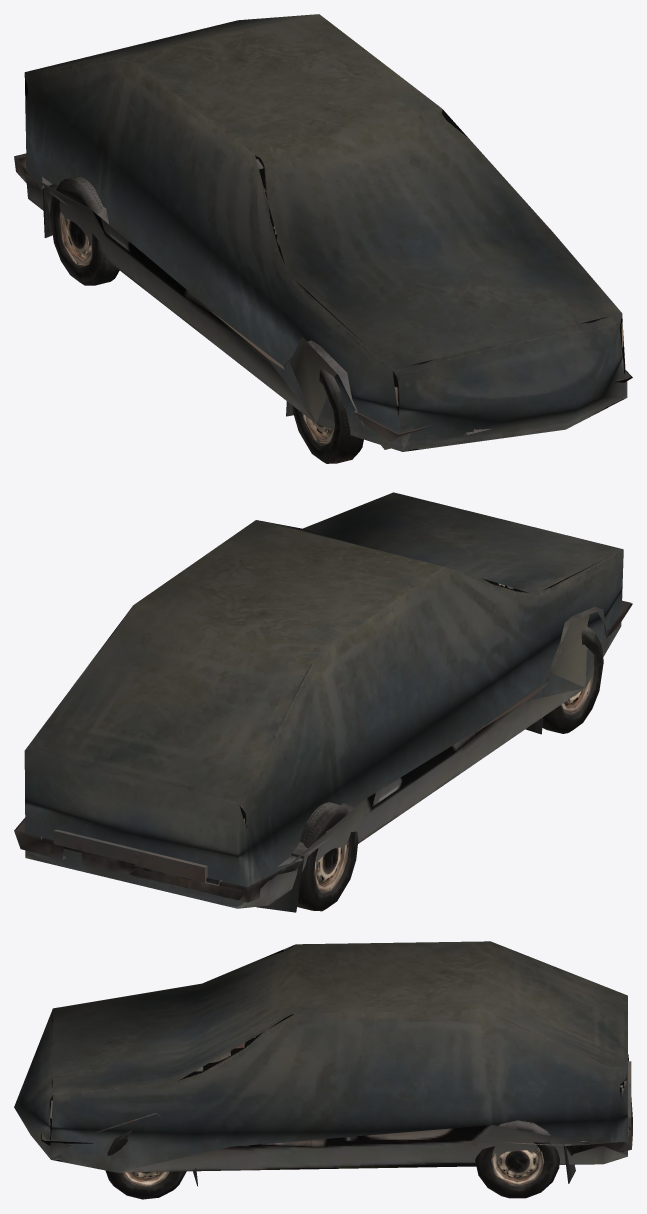
File: covered_car.glb
3 views of the same model, one above another, from view 1: azimuth 30°, elevation 25°; view 2: azimuth 150°, elevation 25°; view 3: azimuth 270°, elevation 25° (orthographic). The views are drawn at different scales.
Parts seen in each view (by area): view 1: covered_car, covered_car_wheel_03, covered_car_wheel_02; view 2: covered_car, covered_car_wheel_03, covered_car_wheel_02; view 3: covered_car, covered_car_wheel_04, covered_car_wheel_01.
Boxes of the visible parts, x1,y1,x2,y2 form: covered_car: (14,14,632,451); covered_car_wheel_03: (50,177,119,285); covered_car_wheel_02: (292,368,363,463); covered_car: (14,492,632,912); covered_car_wheel_03: (297,802,358,911); covered_car_wheel_02: (542,627,603,733); covered_car: (14,941,632,1186); covered_car_wheel_04: (475,1120,559,1198); covered_car_wheel_01: (105,1129,186,1199).
Bounding box in the file's own units: 1.69 × 1.36 × 4.3.
1 material, 1 textured.
